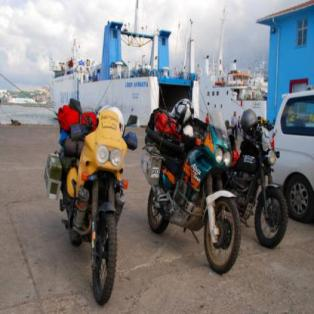Motocicleta: (43, 93, 130, 309), (146, 94, 244, 282), (236, 99, 295, 248)
